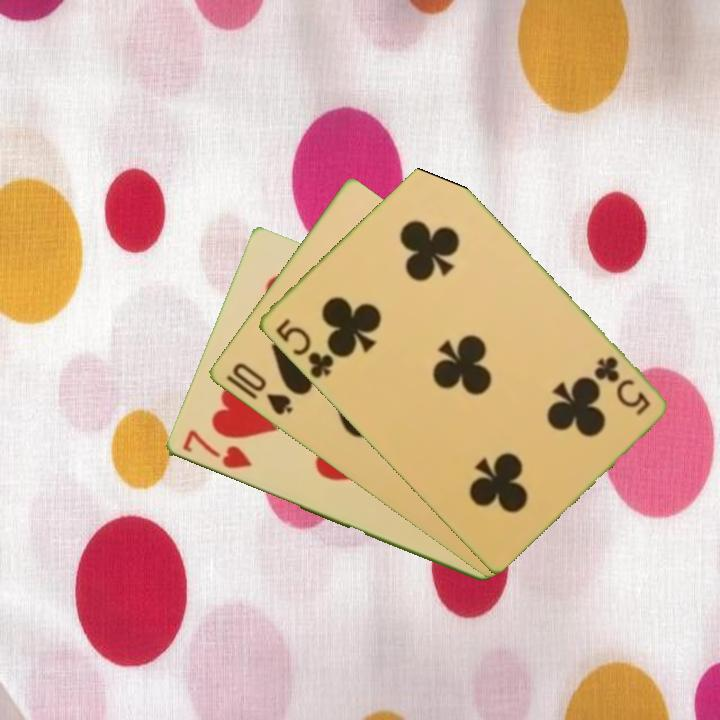10s: (221, 359, 295, 419)
5c: (271, 315, 337, 381), (589, 352, 653, 419)
7h: (178, 426, 254, 472)
